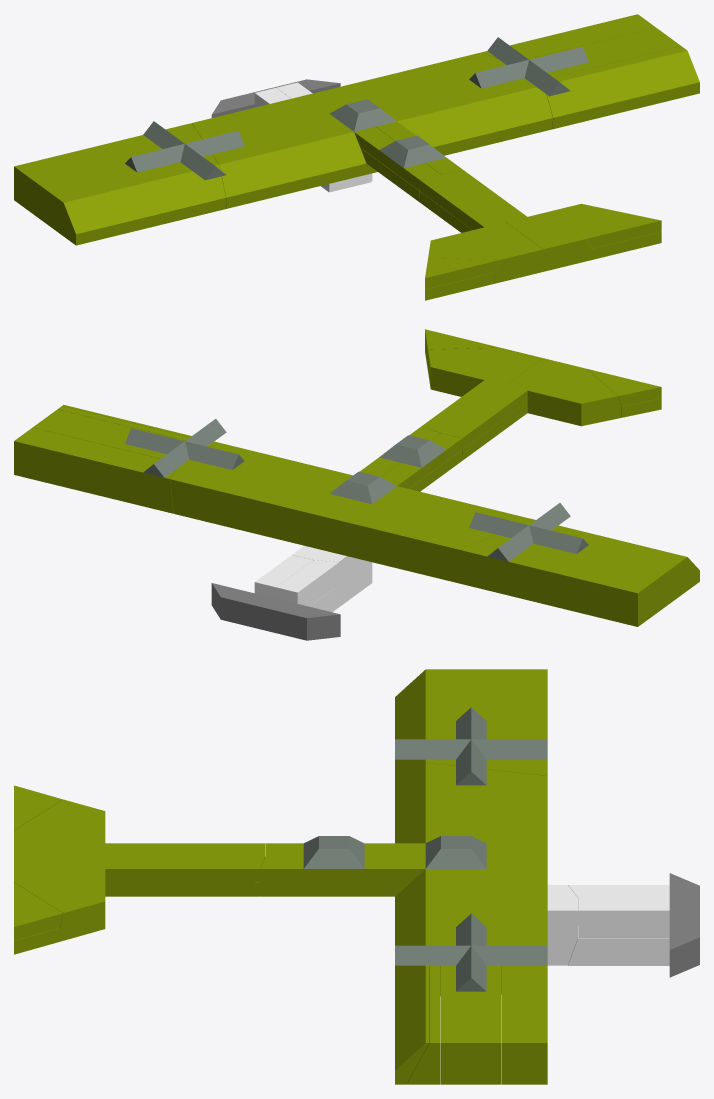
Rendered from Junkers CL.I YellowGreen Debris.dae.
3 views of the same model, one above another, from view 1: azimuth 30°, elevation 25°; view 2: azimuth 150°, elevation 25°; view 3: azimuth 270°, elevation 25° (orthographic). The views are drawn at different scales.
Visible parts, largest first — view 1: Cube.008_cell, Cube.008_cell.003, Cube.008_cell.001, Cube.011_cell.005, Cube.011_cell.003, Cube.010_cell.002, Cube.001, Cube.002, Cube.008_cell.005, Cube.008_cell.002, Cube.011_cell.002, Cube.011_cell.004 (+11 smaller); view 2: Cube.008_cell, Cube.008_cell.003, Cube.008_cell.005, Cube.011_cell.005, Cube.000, Cube.011_cell.003, Cube.010_cell.002, Cube.001, Cube.002, Cube.008_cell.002, Cube.009_cell.004, Cube.010_cell (+12 smaller); view 3: Cube.008_cell, Cube.008_cell.003, Cube.008_cell.002, Cube.010_cell.002, Cube.011_cell.003, Cube.008_cell.005, Cube.002, Cube.001, Cube.011_cell.005, Cube.009_cell.001, Cube.010_cell.001, Cube.008_cell.001 (+13 smaller).
Boxes of the visible parts, box(x1,y1,x2,y2) form: Cube.008_cell: box(192, 52, 552, 208); Cube.008_cell.003: box(14, 123, 225, 245); Cube.008_cell.001: box(546, 49, 699, 129); Cube.011_cell.005: box(428, 222, 543, 283); Cube.011_cell.003: box(506, 203, 617, 271); Cube.010_cell.002: box(419, 171, 526, 229); Cube.001: box(469, 37, 588, 96); Cube.002: box(125, 121, 244, 180); Cube.008_cell.005: box(482, 14, 655, 58); Cube.008_cell.002: box(528, 28, 680, 77); Cube.011_cell.002: box(425, 258, 499, 289); Cube.011_cell.004: box(587, 211, 661, 248); Cube.008_cell: box(170, 441, 531, 583); Cube.008_cell.003: box(460, 519, 699, 626); Cube.008_cell.005: box(14, 427, 175, 513); Cube.011_cell.005: box(506, 358, 621, 426); Cube.000: box(211, 583, 340, 640); Cube.011_cell.003: box(428, 347, 542, 396); Cube.010_cell.002: box(422, 380, 527, 449); Cube.001: box(125, 419, 244, 477); Cube.002: box(469, 503, 588, 561); Cube.008_cell.002: box(33, 409, 184, 458); Cube.009_cell.004: box(276, 560, 338, 606); Cube.010_cell: box(381, 433, 462, 488); Cube.008_cell: box(395, 762, 547, 995); Cube.008_cell.003: box(395, 669, 547, 786); Cube.008_cell.002: box(441, 965, 501, 1084); Cube.010_cell.002: box(105, 843, 265, 882); Cube.011_cell.003: box(14, 856, 105, 941); Cube.008_cell.005: box(502, 965, 547, 1084); Cube.002: box(395, 707, 547, 785); Cube.001: box(395, 913, 547, 991); Cube.011_cell.005: box(14, 799, 105, 856); Cube.009_cell.001: box(578, 897, 669, 937); Cube.010_cell.001: box(260, 856, 425, 882); Cube.008_cell.001: box(395, 965, 429, 1084).
Bounding box in the file's own units: 5.8 × 4.5 × 0.8.
